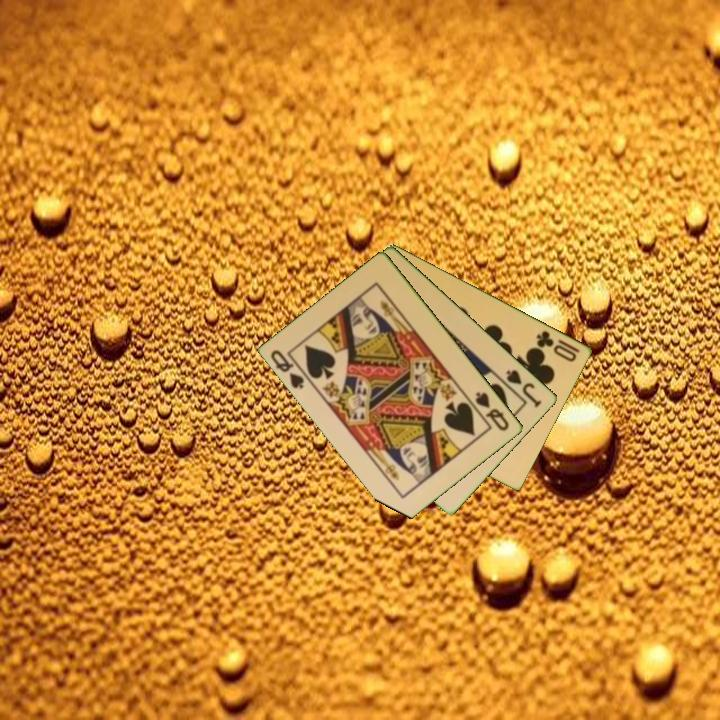10c: (533, 327, 583, 365)
Js: (503, 366, 545, 411)
Qs: (267, 346, 308, 392), (472, 388, 512, 434)
